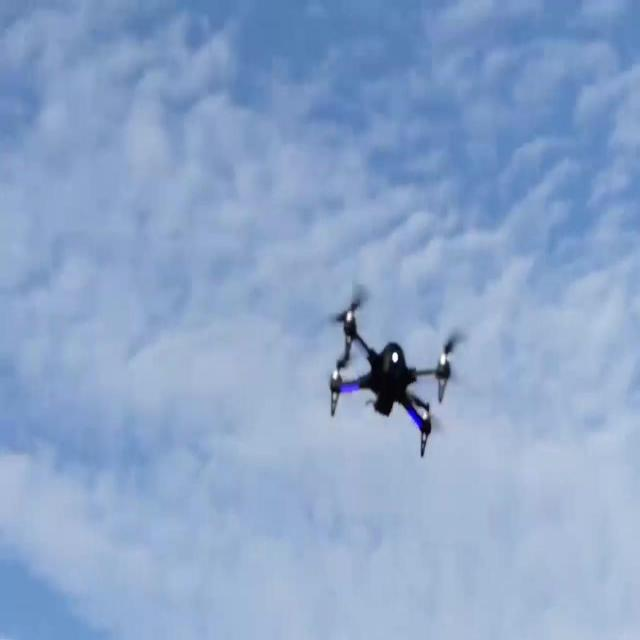UAV: (322, 281, 467, 459)
